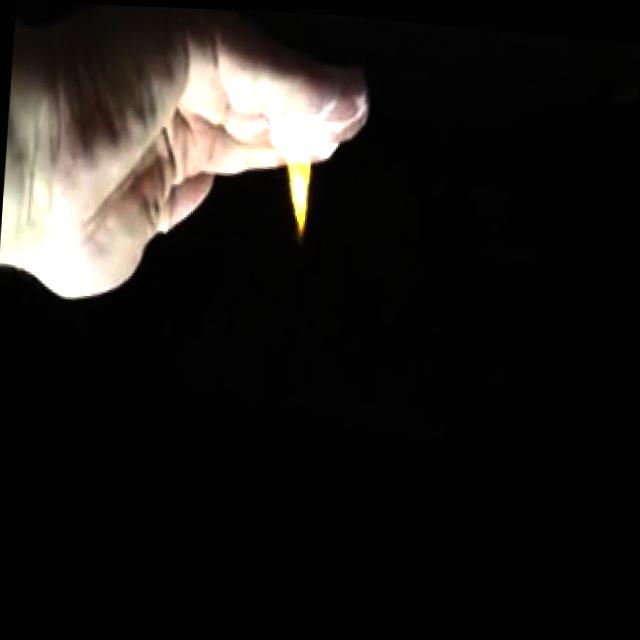Fire: (269, 122, 317, 240)
